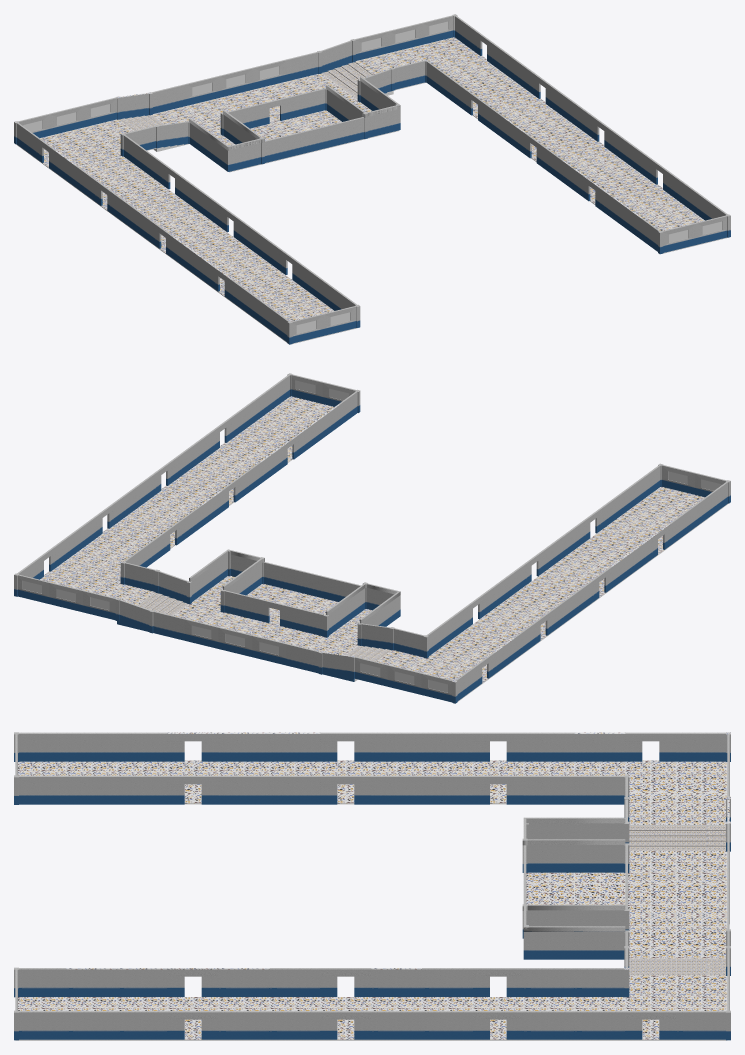
Rendered from groundFloor_hall.fbx.
3 views of the same model, one above another, from view 1: azimuth 30°, elevation 25°; view 2: azimuth 150°, elevation 25°; view 3: azimuth 270°, elevation 25° (orthographic). The views are drawn at different scales.
Parts seen in each view (by area): view 1: groundFloor; view 2: groundFloor; view 3: groundFloor.
Boxes of the visible parts, left/top/right/bottom form: groundFloor: left=14, top=14, right=730, bottom=344; groundFloor: left=14, top=373, right=730, bottom=703; groundFloor: left=14, top=732, right=730, bottom=1040.
Size of the model in its own units: 13051 by 720 by 14100.
